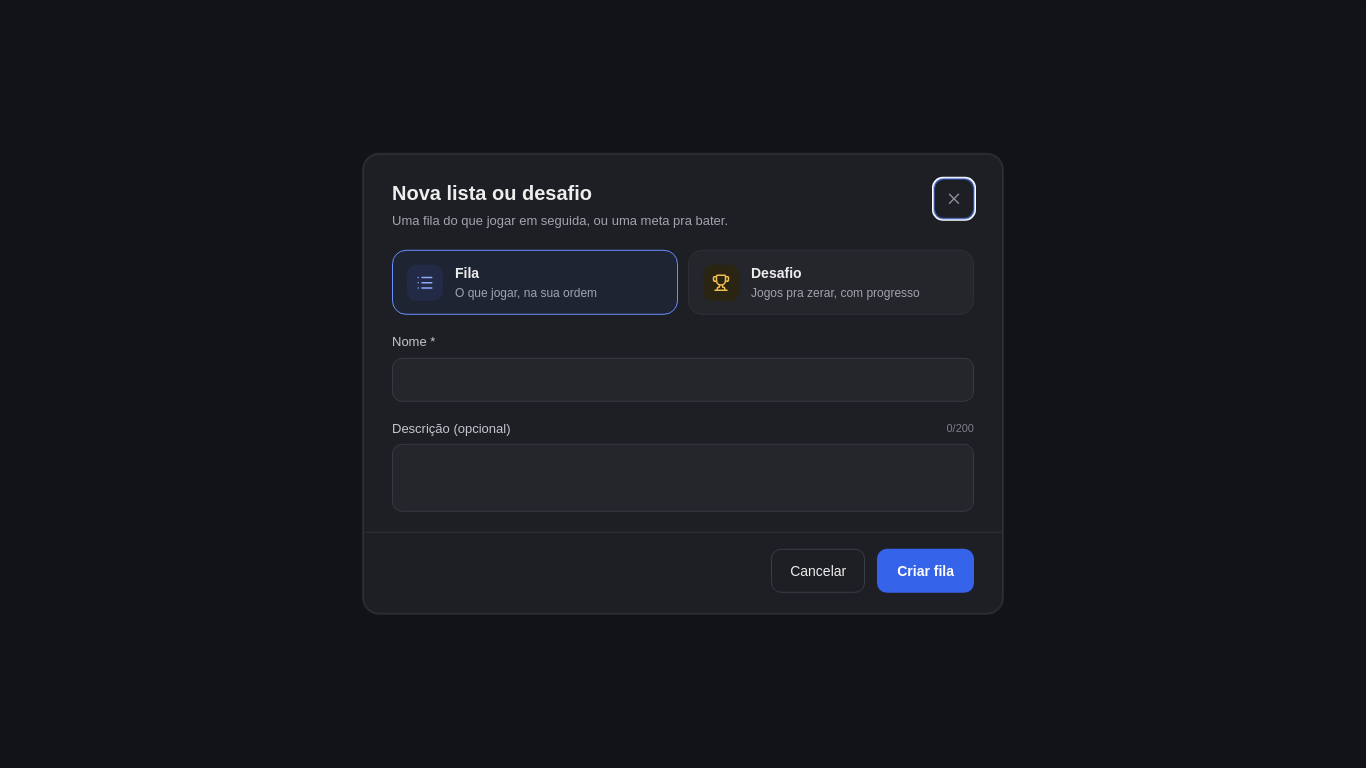
Scenario: NovaListaDialog › exibe fila por padrão e alterna para desafio
The width and height of the screenshot is (1366, 768).
Check: the button "Criar fila" is shown, box [877,549,974,593]
Click the radio button labelled "Desafio Jogos pra zerar, com progresso". click: [721, 282]
box: [688,250,974,315]
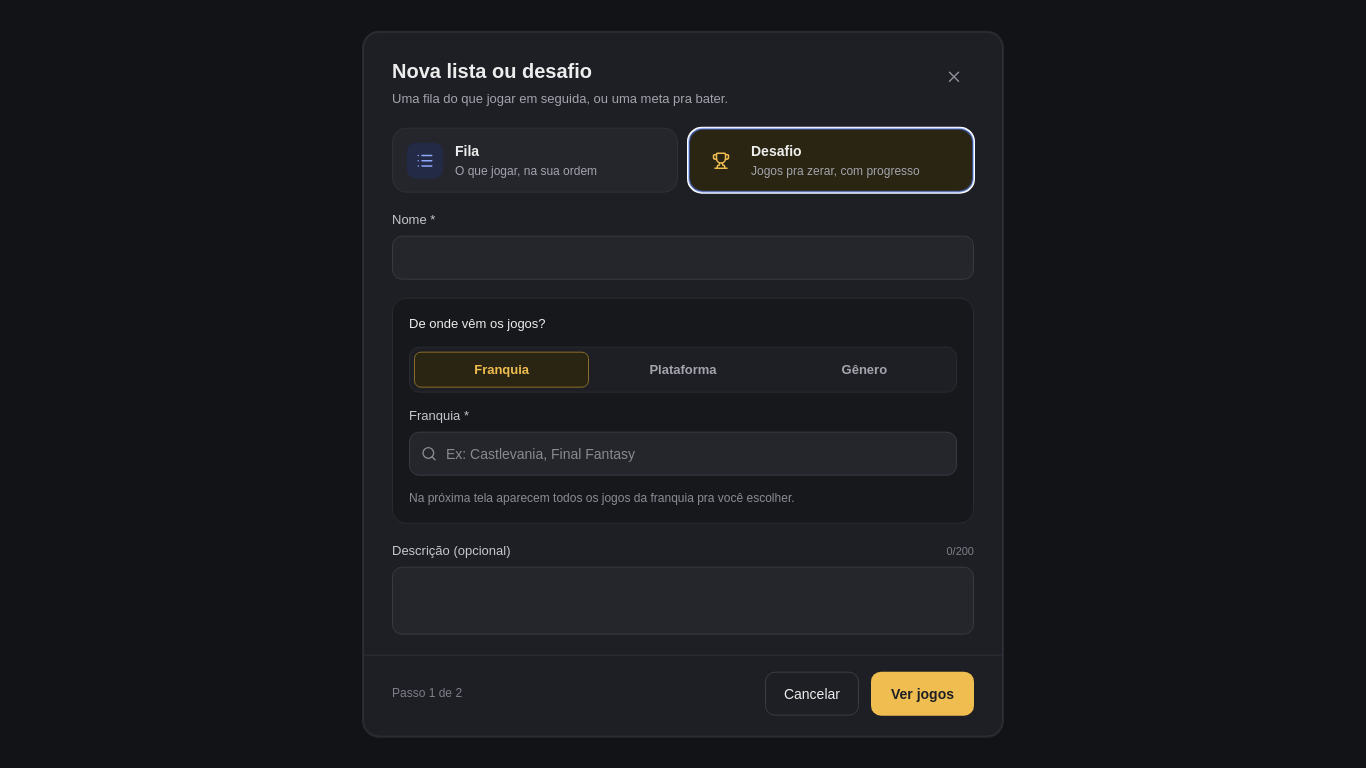
Check: the text "De onde vêm os jogos?" is shown, box [409,316,546,330]
Check: the button "Ver jogos" is shown, box [871,671,974,715]
